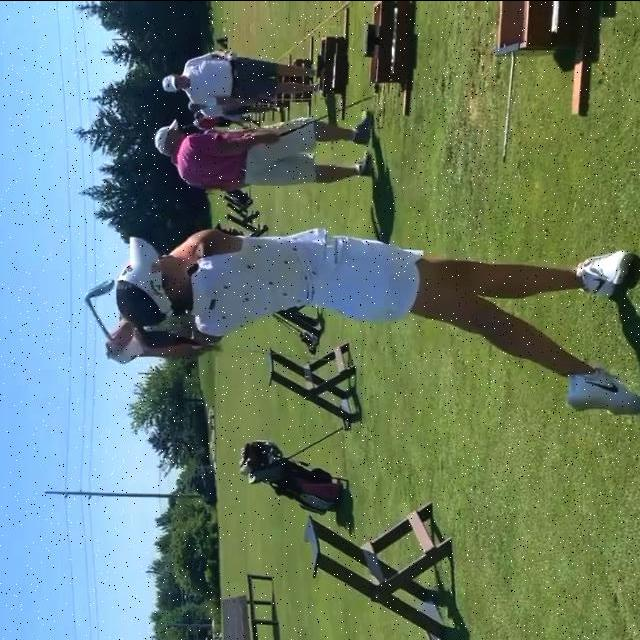golf club-handle: (85, 277, 115, 337)
golf club-head: (84, 278, 114, 295)
